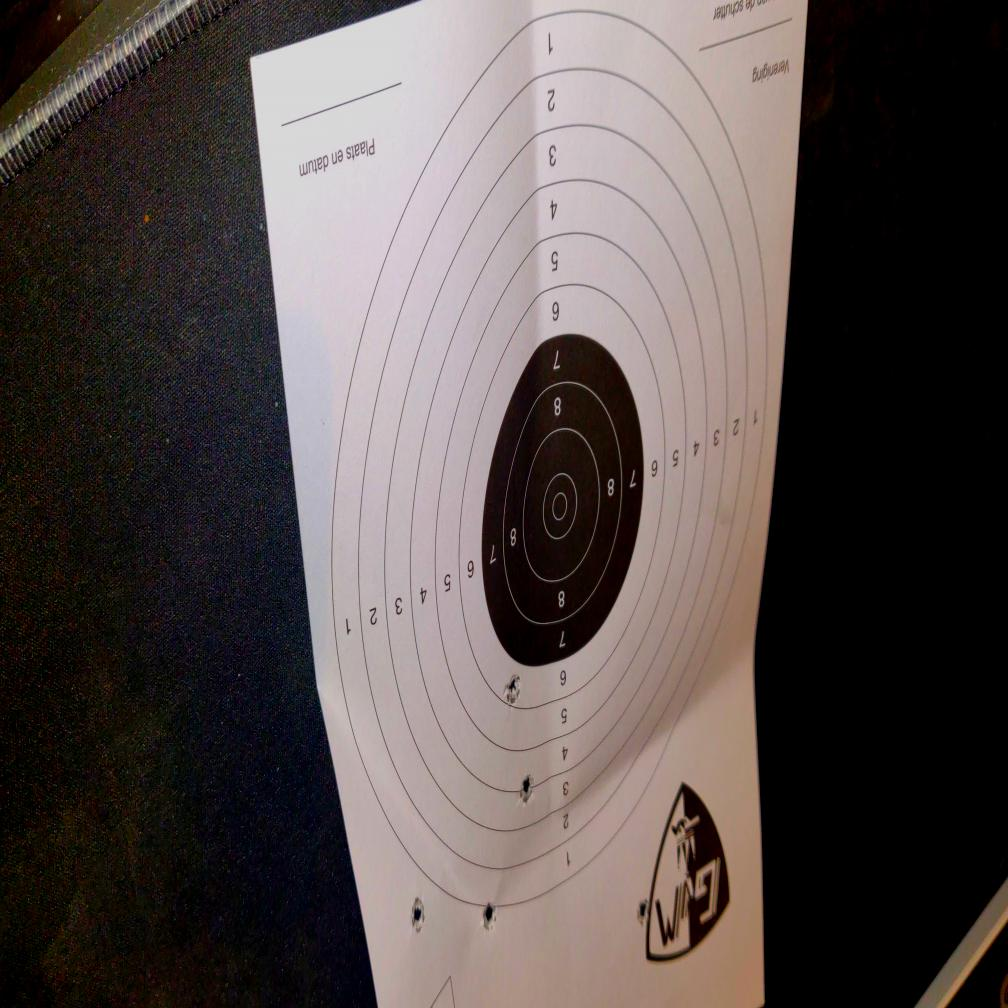0: (409, 896, 426, 934), (635, 894, 650, 926)
1: (480, 901, 498, 935)
4: (518, 772, 534, 808)
6: (502, 671, 521, 709)
Target: (329, 16, 768, 914)
black_contour: (481, 335, 644, 665)
